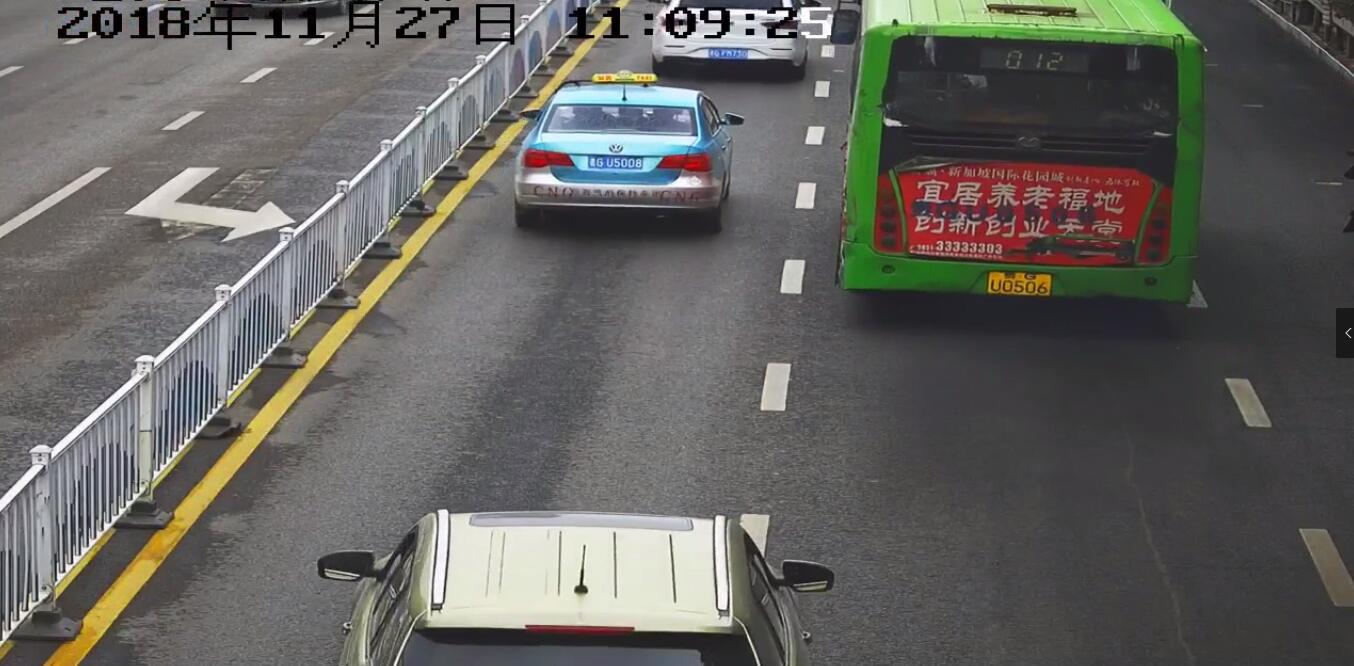smoke: (895, 293, 1197, 436)
